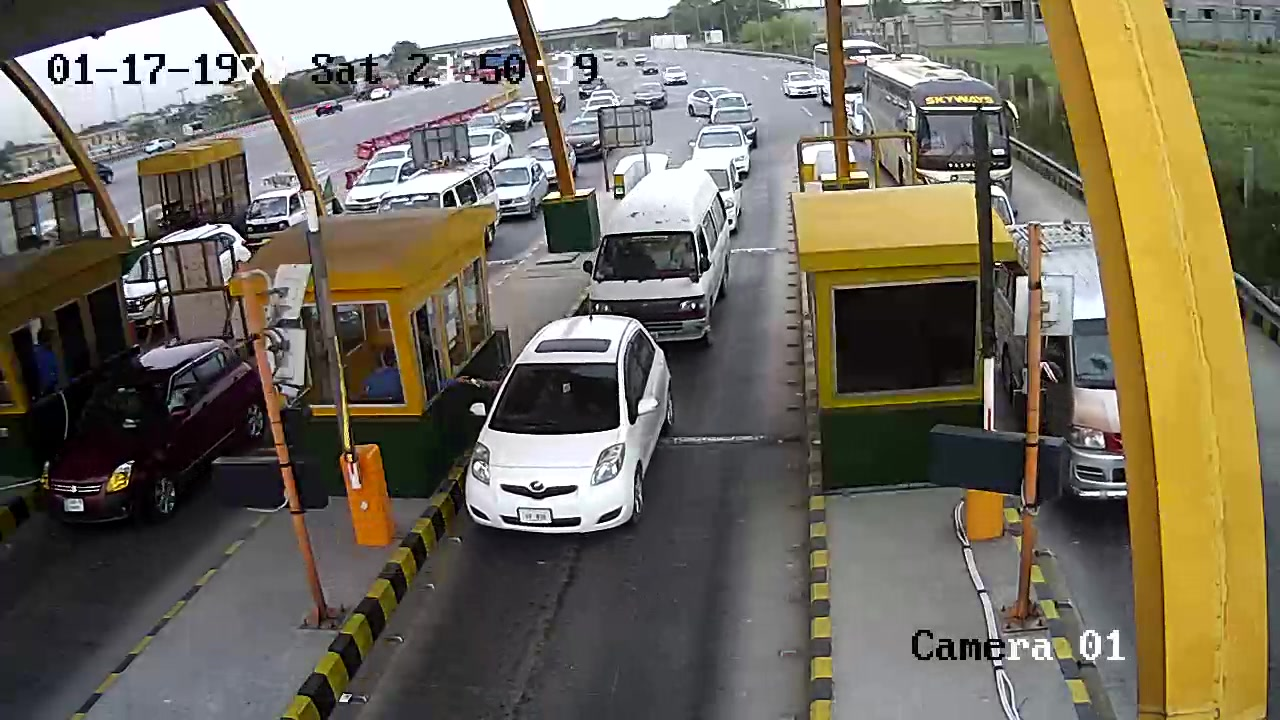F1: (462, 309, 685, 545)
